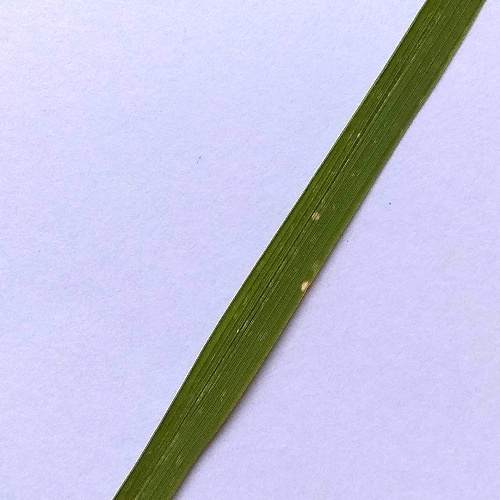Busuk Leher: (293, 276, 317, 296), (307, 205, 327, 225)
